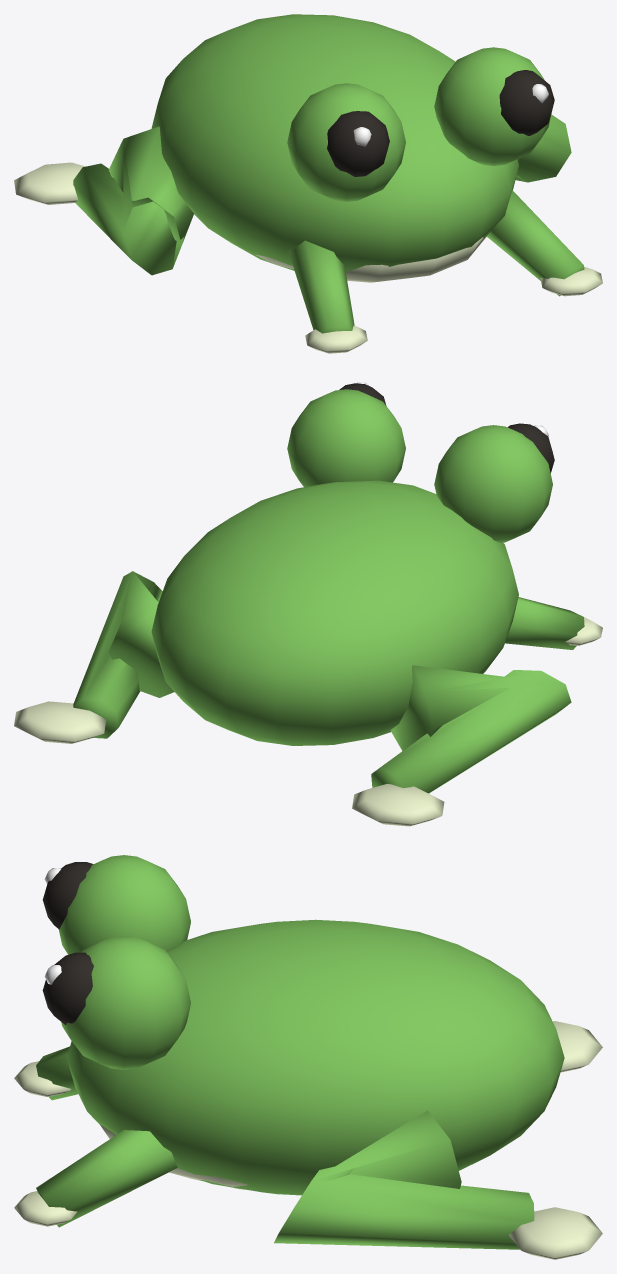
Rendered from bug-tree-frog.glb.
The picture shows the model from 3 angles, top to bottom: view 1: azimuth 30°, elevation 25°; view 2: azimuth 150°, elevation 25°; view 3: azimuth 270°, elevation 25°; orthographic projection. The views are drawn at different scales.
Parts seen in each view (by area): view 1: bug; view 2: bug; view 3: bug.
Boxes of the visible parts, x1,y1,x2,y2 form: bug: (14,14,602,353); bug: (14,382,602,826); bug: (14,855,602,1259).
Size of the model in its own units: 0.1324 by 0.0682 by 0.1353.
